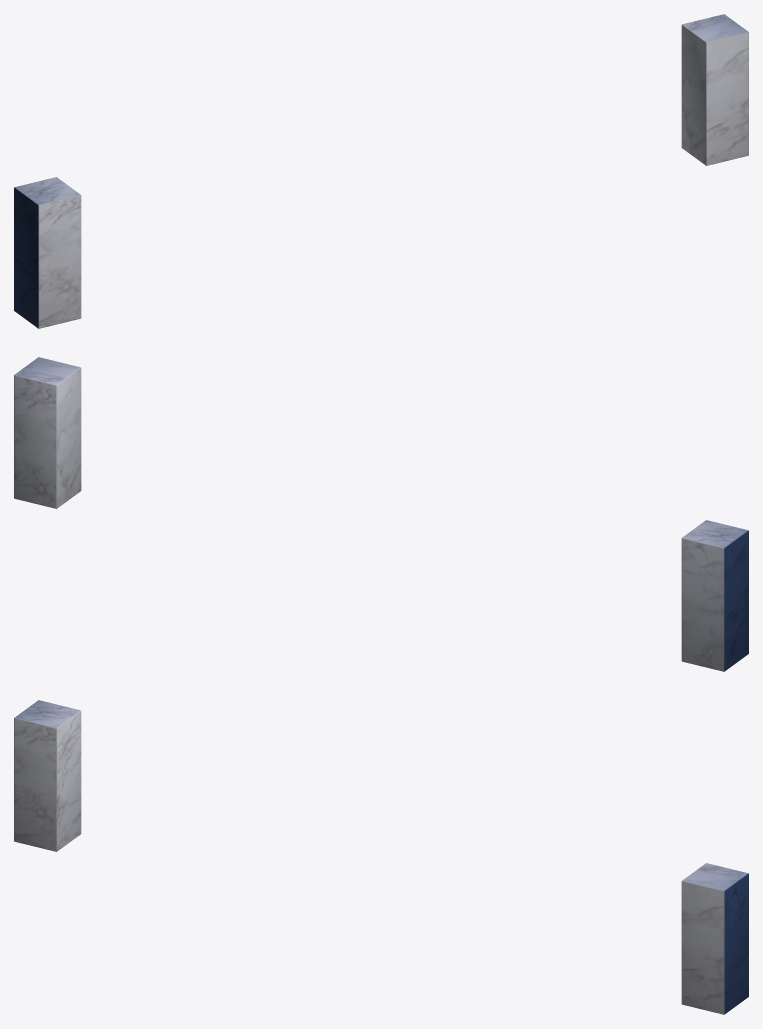
Rendered from podio3.glb.
3 renders of one model, top to bottom at view 1: azimuth 30°, elevation 25°; view 2: azimuth 150°, elevation 25°; view 3: azimuth 330°, elevation 25°, orthographic.
Visible parts, largest first — view 1: uniti - prebaking.1; view 2: uniti - prebaking.1; view 3: uniti - prebaking.1.
Boxes of the visible parts, x1,y1,x2,y2 form: uniti - prebaking.1: (14, 14, 748, 328); uniti - prebaking.1: (14, 357, 748, 671); uniti - prebaking.1: (14, 700, 748, 1014).
Size of the model in its own units: 194 by 32.33 by 11.76.
Materials: 1 (1 with a texture image).
